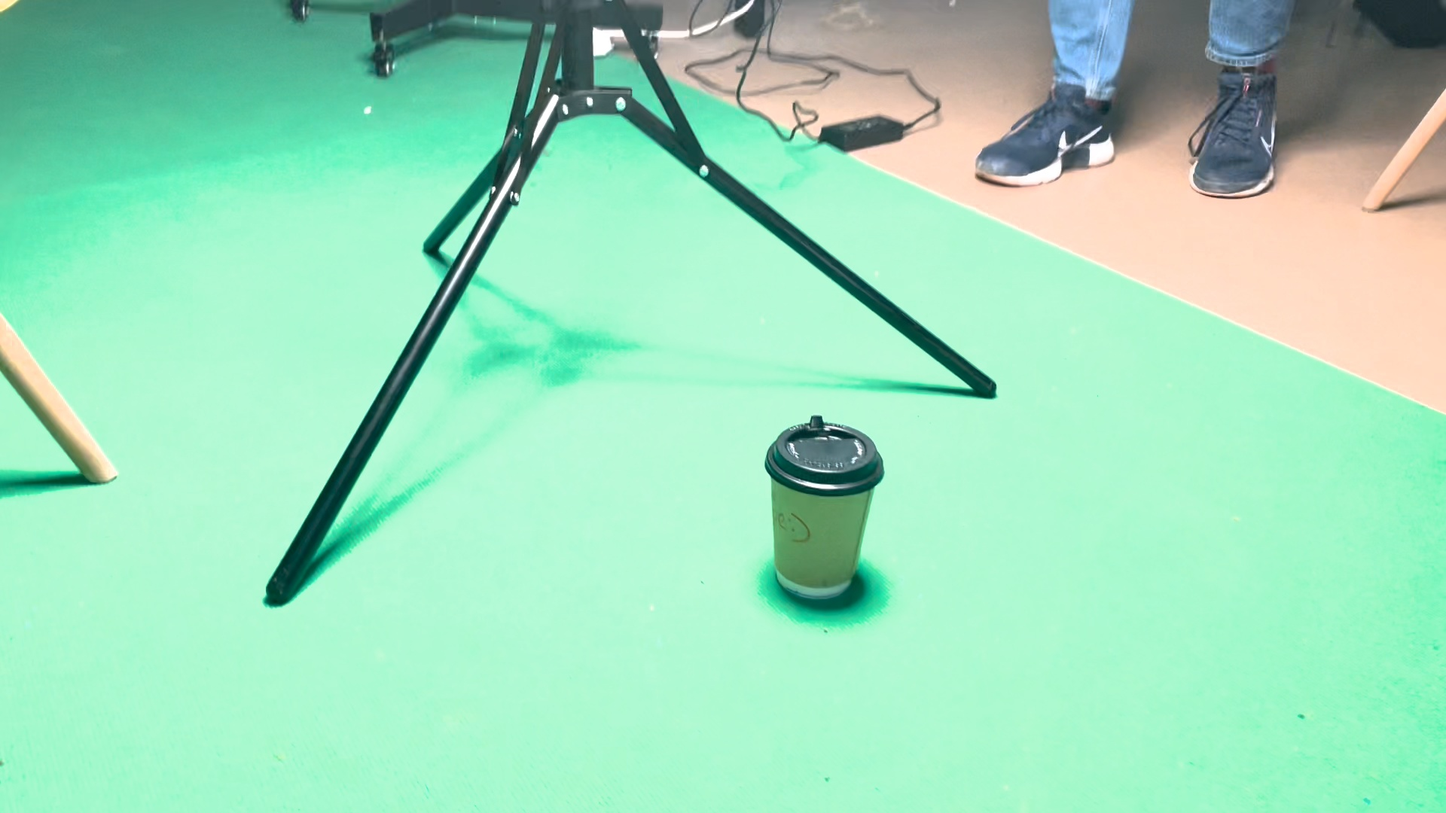cup: (745, 414, 837, 534)
